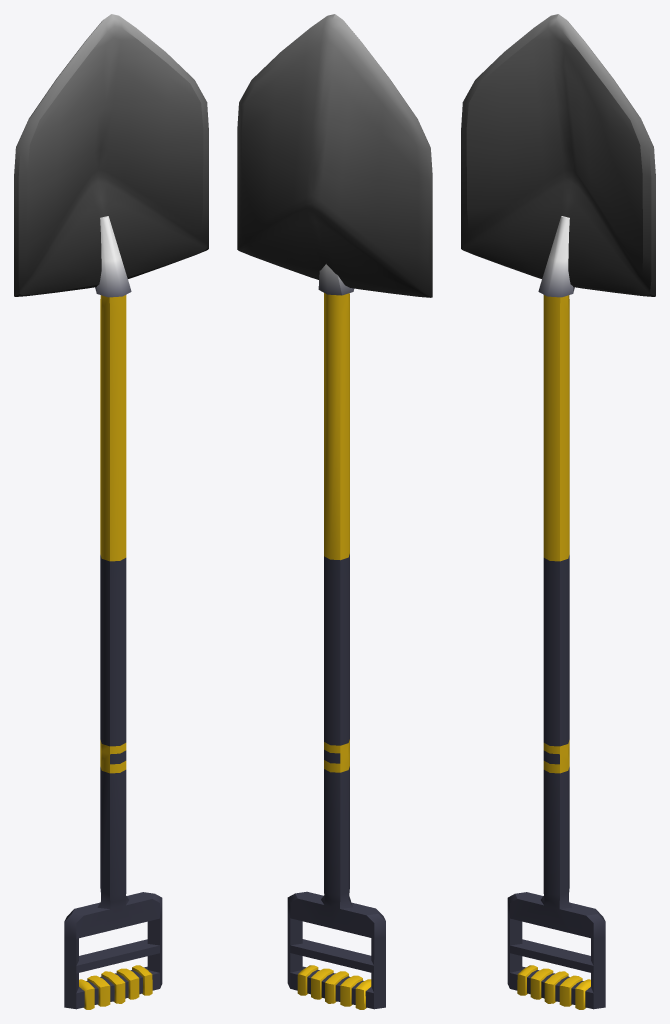
File: Shovel.fbx
3 renders of one model, left to right at view 1: azimuth 30°, elevation 25°; view 2: azimuth 150°, elevation 25°; view 3: azimuth 330°, elevation 25°, orthographic.
Visible parts, largest first — view 1: Plane, Cylinder.003; view 2: Plane, Cylinder.003; view 3: Plane, Cylinder.003.
Boxes of the visible parts, bbox=[...] form: Plane: bbox=[14, 14, 208, 296]; Cylinder.003: bbox=[64, 216, 162, 1009]; Plane: bbox=[237, 14, 432, 297]; Cylinder.003: bbox=[287, 264, 385, 1009]; Plane: bbox=[461, 14, 655, 296]; Cylinder.003: bbox=[507, 216, 605, 1009].
Bounding box in the file's own units: 179 × 860 × 53.52.
Materials: 1 (1 with a texture image).
